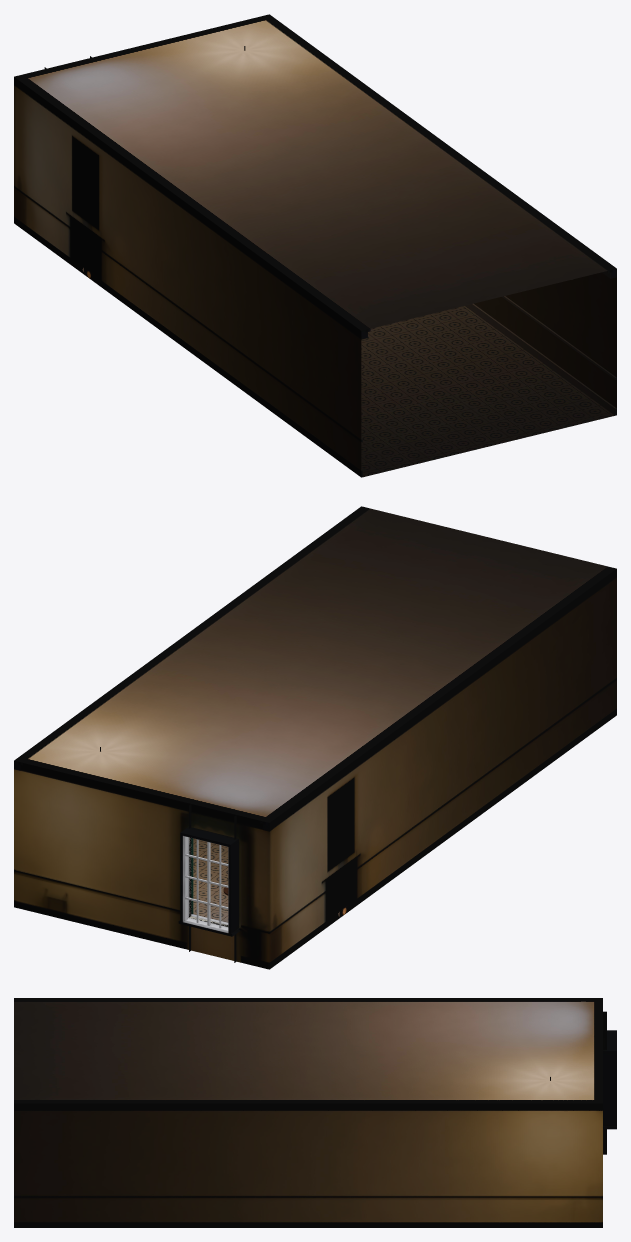
The model's file is longwood.glb.
The picture shows the model from 3 angles, top to bottom: view 1: azimuth 30°, elevation 25°; view 2: azimuth 150°, elevation 25°; view 3: azimuth 270°, elevation 25°; orthographic projection. The views are drawn at different scales.
Parts seen in each view (by area): view 1: longwood, longwood_murs; view 2: longwood, longwood_murs, longwood_objets; view 3: longwood_murs, longwood.
Part boxes in pixels (x1,y1,x2,y2): longwood: (14, 14, 616, 477); longwood_murs: (14, 56, 616, 476); longwood: (14, 506, 616, 969); longwood_murs: (14, 569, 616, 968); longwood_objets: (100, 747, 344, 968); longwood_murs: (14, 1011, 606, 1227); longwood: (14, 998, 616, 1226).
Bounding box in the file's own units: 6.21 × 3.5 × 14.95.
2 materials, 2 textured.
